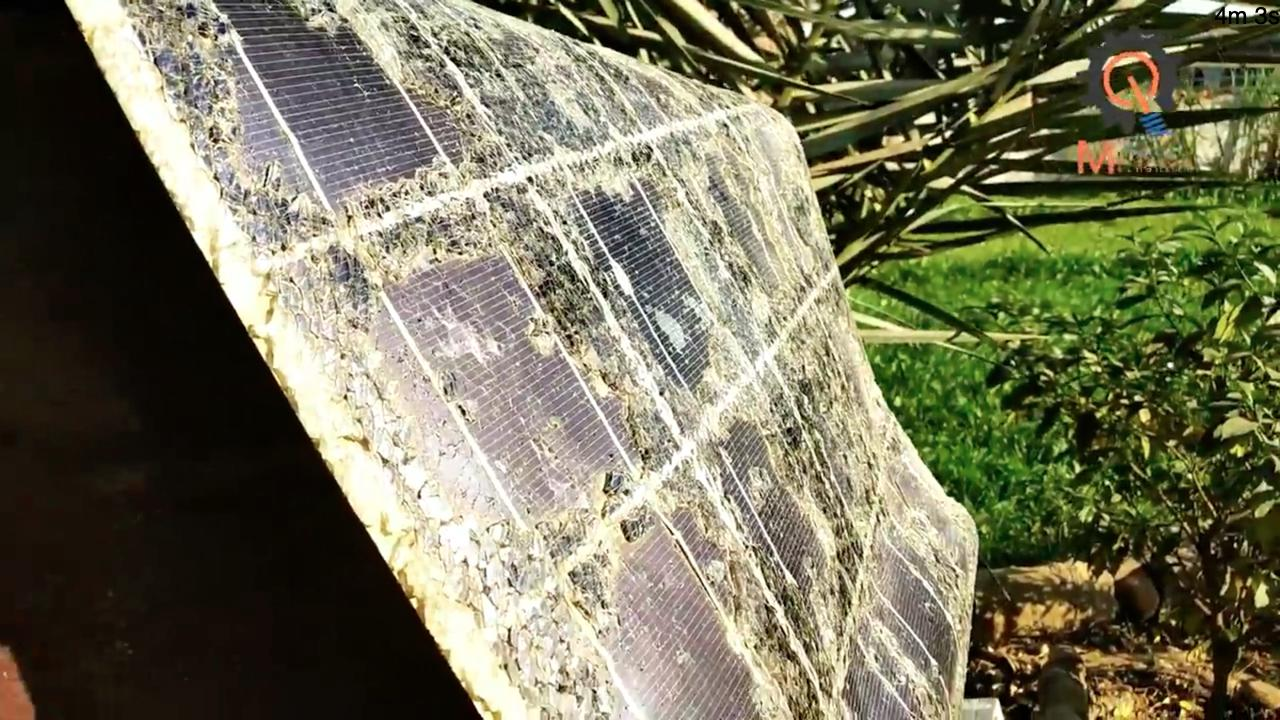Crack: (480, 190, 702, 484), (676, 503, 828, 715), (113, 1, 276, 190), (723, 275, 869, 472), (873, 476, 998, 632), (340, 168, 517, 275), (459, 46, 593, 180), (259, 204, 374, 332), (673, 144, 798, 261), (326, 0, 442, 92)
